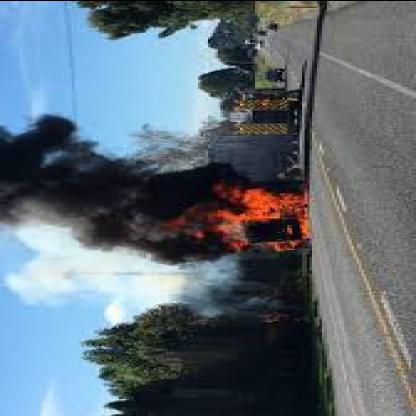Fire: (238, 189, 302, 215)
Smoke: (8, 161, 150, 250)
